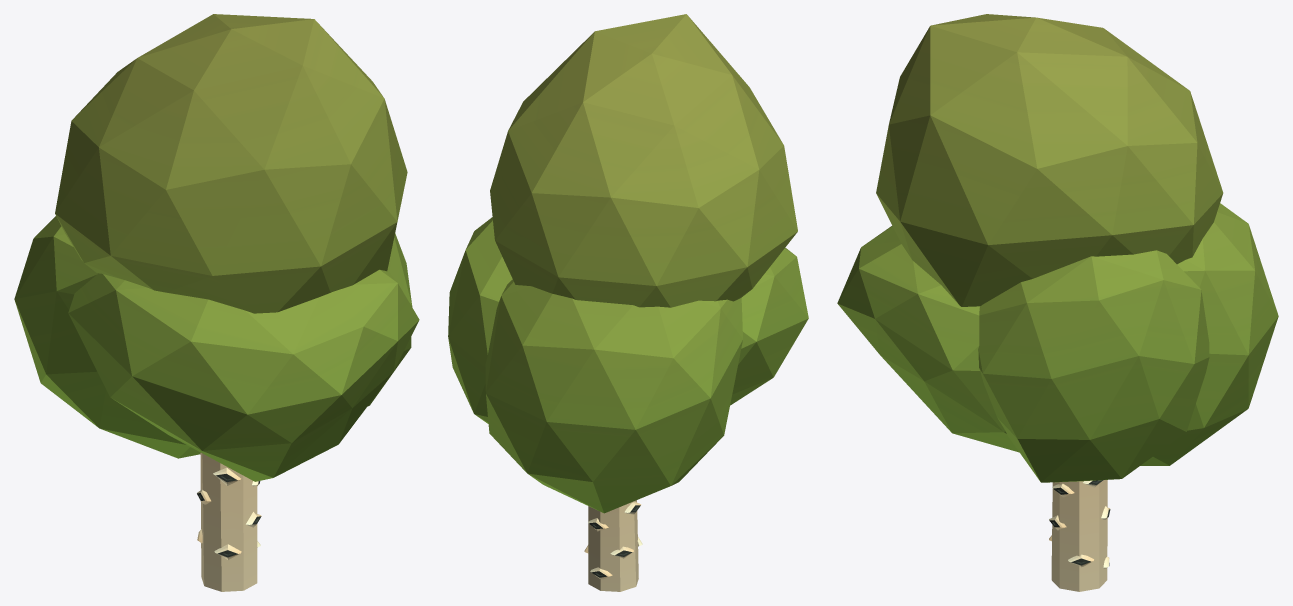
Rendered from Tree.Birch.glb.
3 views of the same model, side by side, from view 1: azimuth 30°, elevation 25°; view 2: azimuth 150°, elevation 25°; view 3: azimuth 270°, elevation 25° (orthographic). The views are drawn at different scales.
Parts seen in each view (by area): view 1: BirchTree; view 2: BirchTree; view 3: BirchTree.
Boxes of the visible parts, left/top/right/bottom form: BirchTree: left=14, top=14, right=419, bottom=591; BirchTree: left=448, top=14, right=808, bottom=591; BirchTree: left=837, top=14, right=1278, bottom=591.
Bounding box in the file's own units: 4.2 × 7.09 × 5.13.
2 materials, 2 textured.
